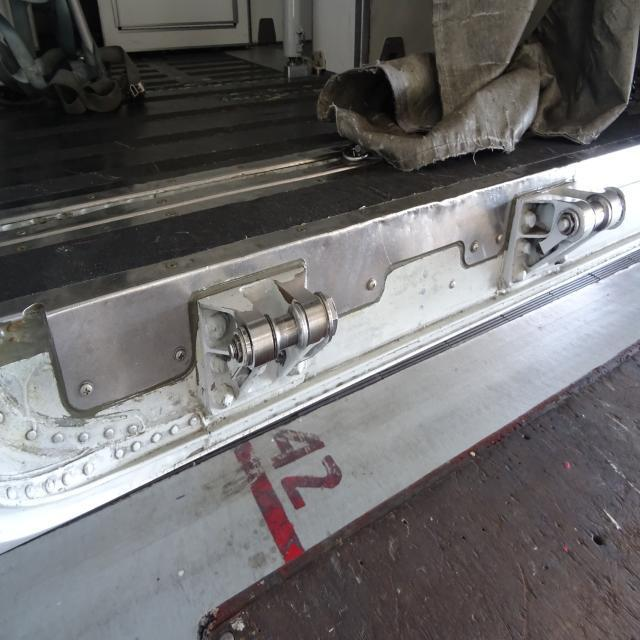dent: (394, 198, 454, 230), (371, 212, 394, 234), (467, 183, 487, 204)
